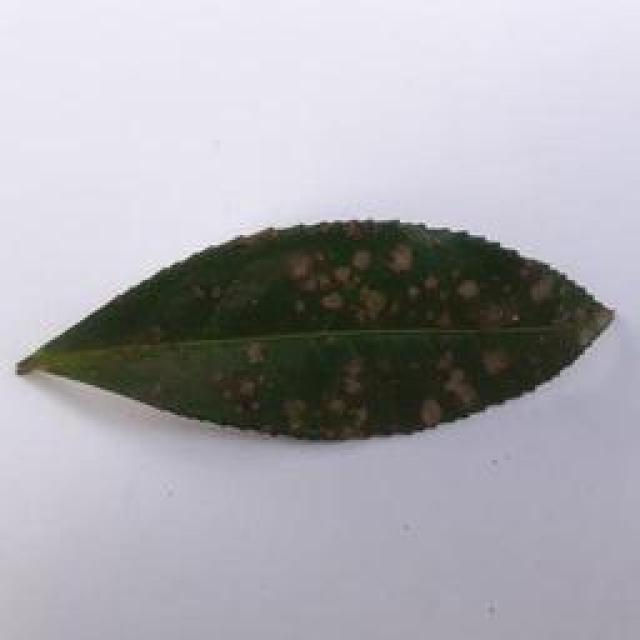Algal Leaf Spot: (18, 216, 612, 442)
